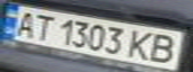0: (87, 21, 109, 53)
1: (51, 16, 75, 46)
3: (103, 24, 130, 56), (66, 19, 90, 49)
A: (6, 8, 42, 38)
B: (145, 31, 187, 64)
K: (124, 28, 160, 61)
T: (27, 11, 57, 43)
